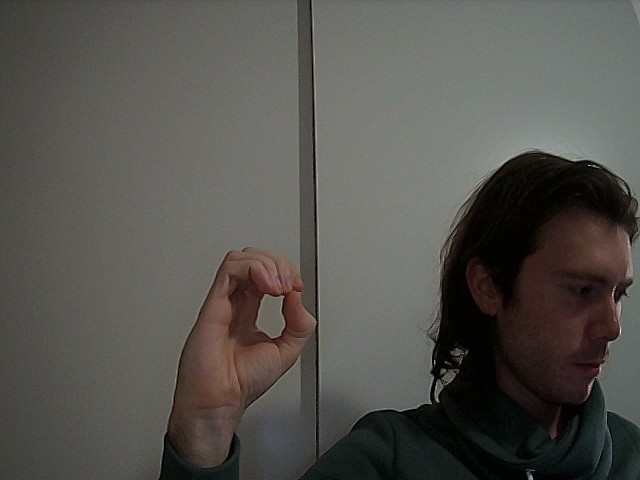o: (180, 240, 333, 407)
